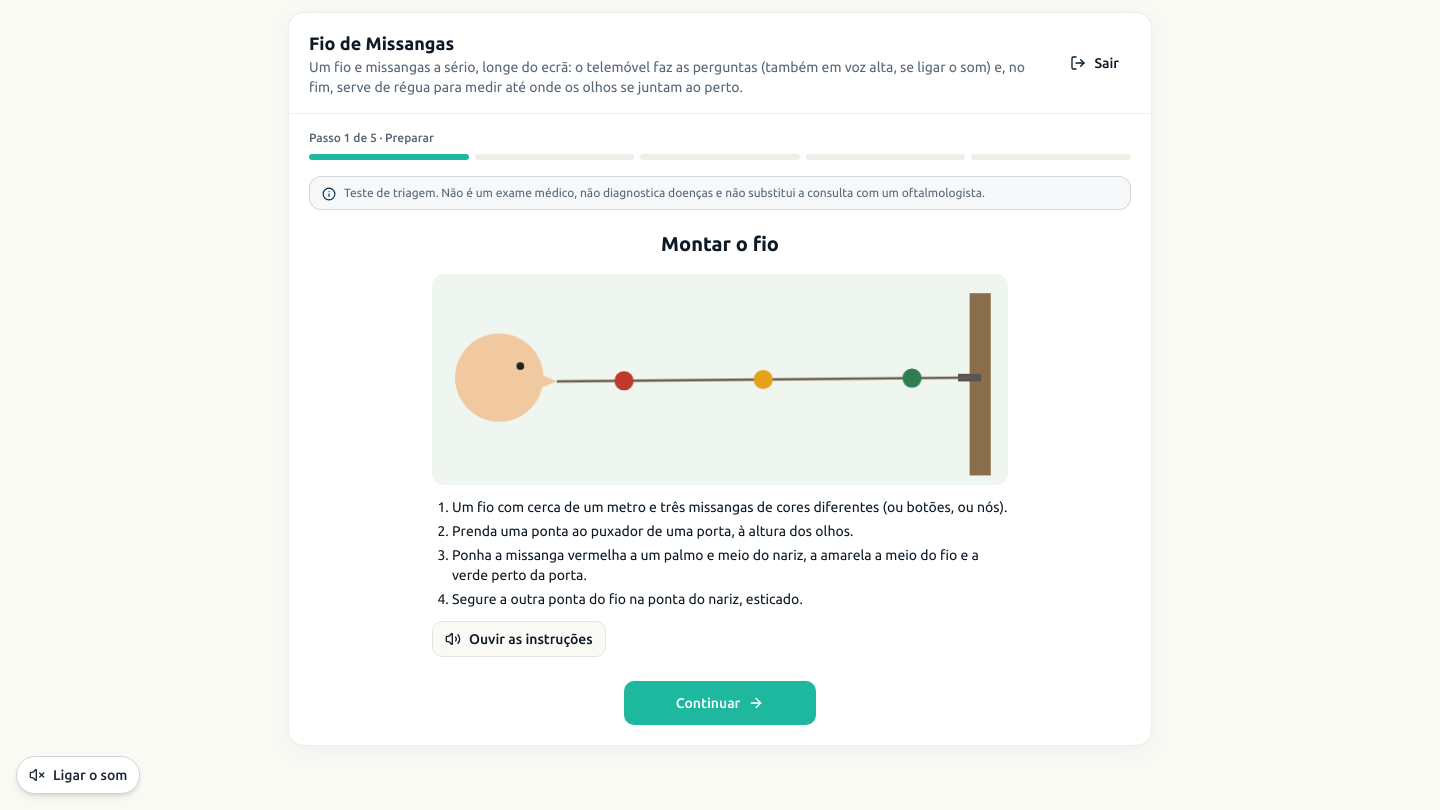
Test case: Fio de Missangas › três missangas, duas medições na régua: grava o ponto mais próximo em cm e a supressão
The width and height of the screenshot is (1440, 810).
(page scrolled)
Click the button "Continuar".
click(720, 703)  # box [624, 681, 816, 725]
(page scrolled)
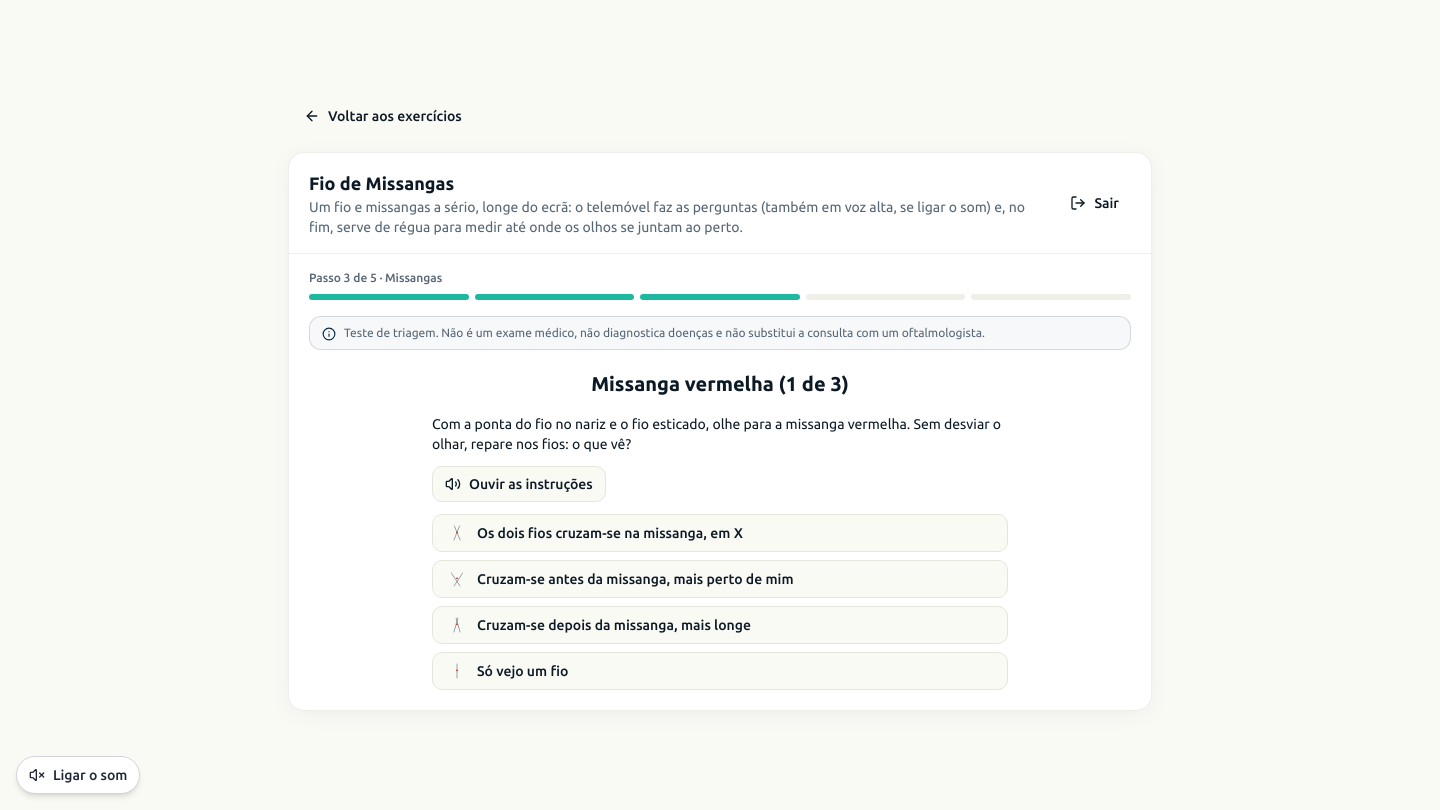
Click the button "Os dois fios cruzam-se na missanga, em X".
click(720, 533)  # box [432, 514, 1008, 552]
Wait 11000 ms
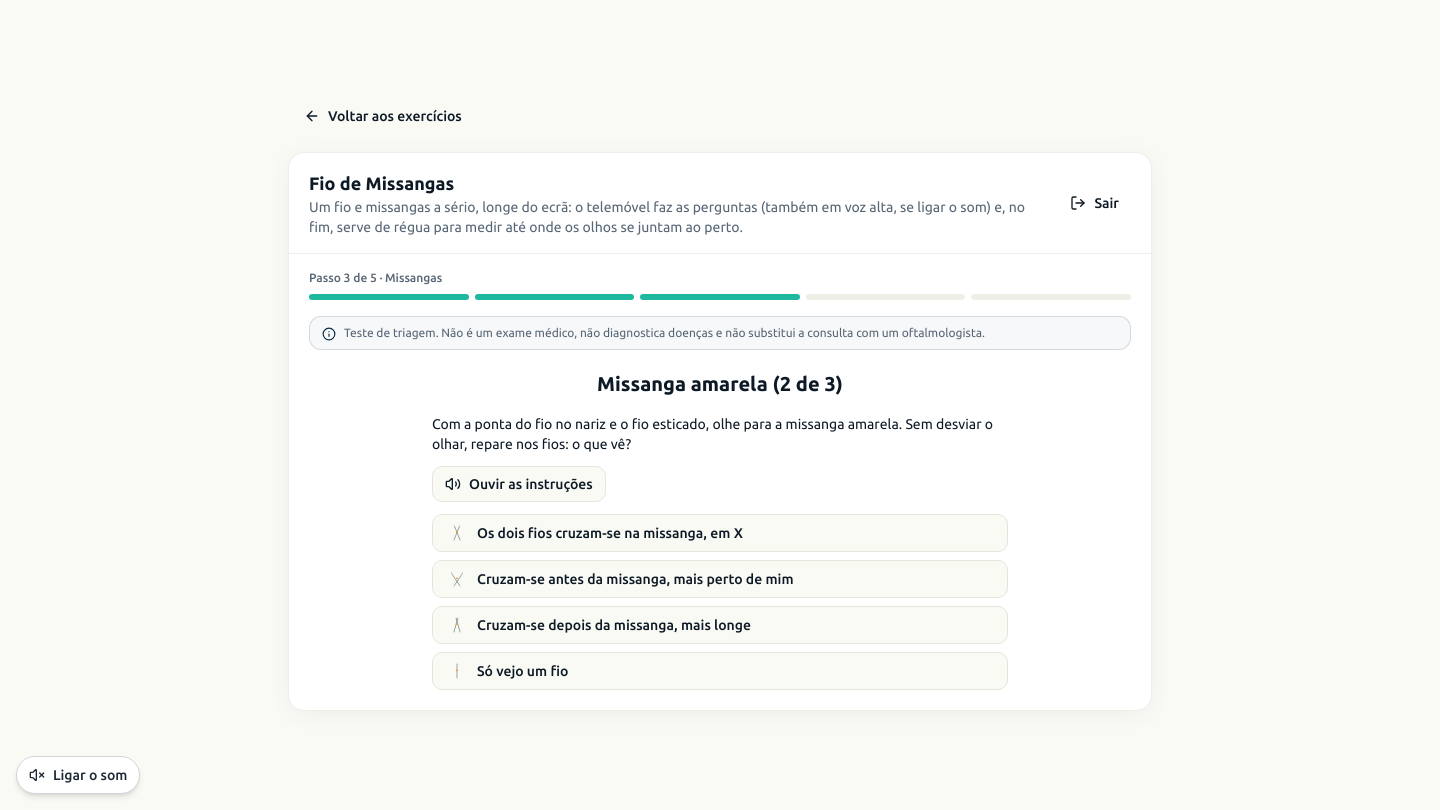
Click the button "Só vejo um fio".
click(523, 671)  # box [432, 652, 1008, 690]
Wait 11000 ms
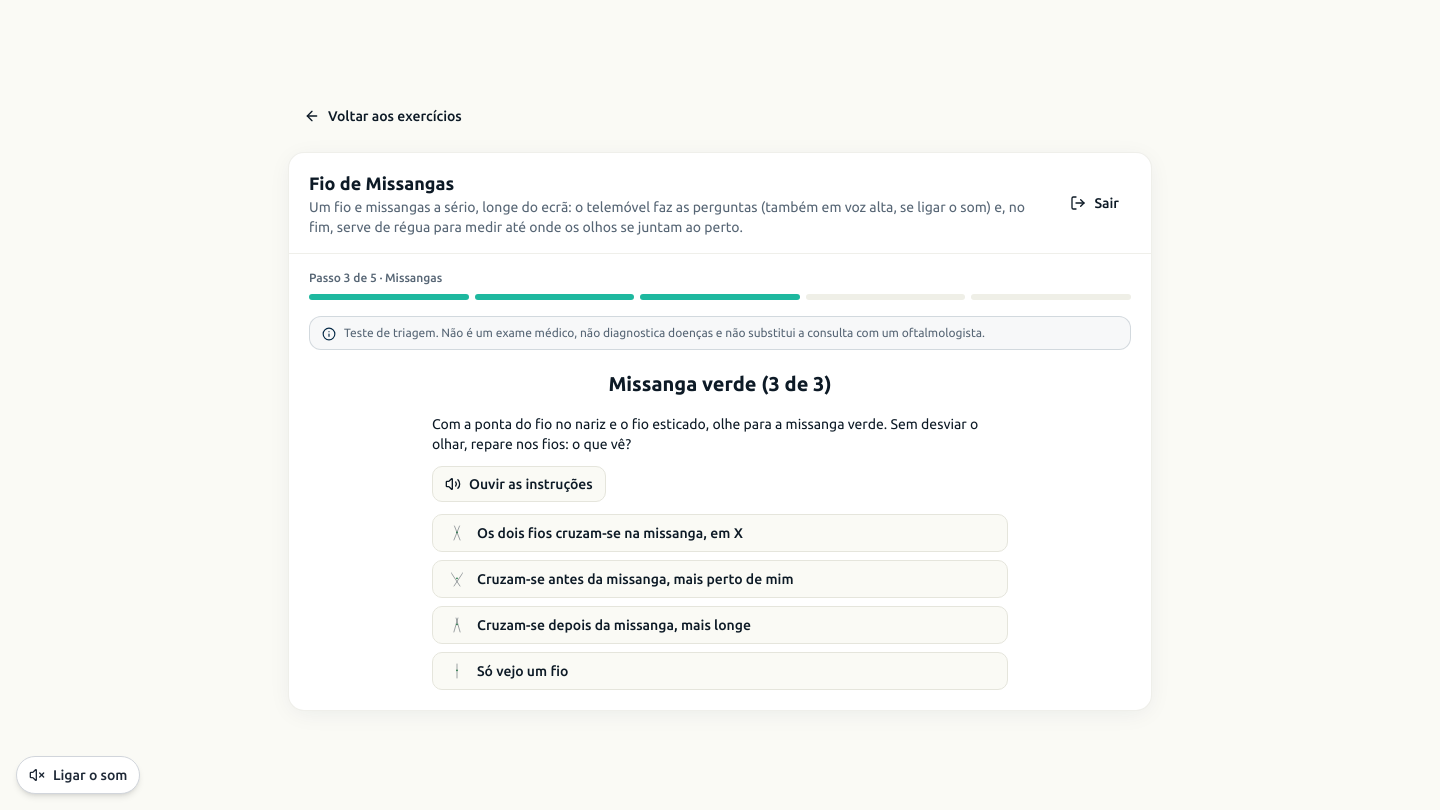
Click the button "Cruzam-se depois da missanga, mais longe".
click(720, 625)  # box [432, 606, 1008, 644]
Wait 11000 ms
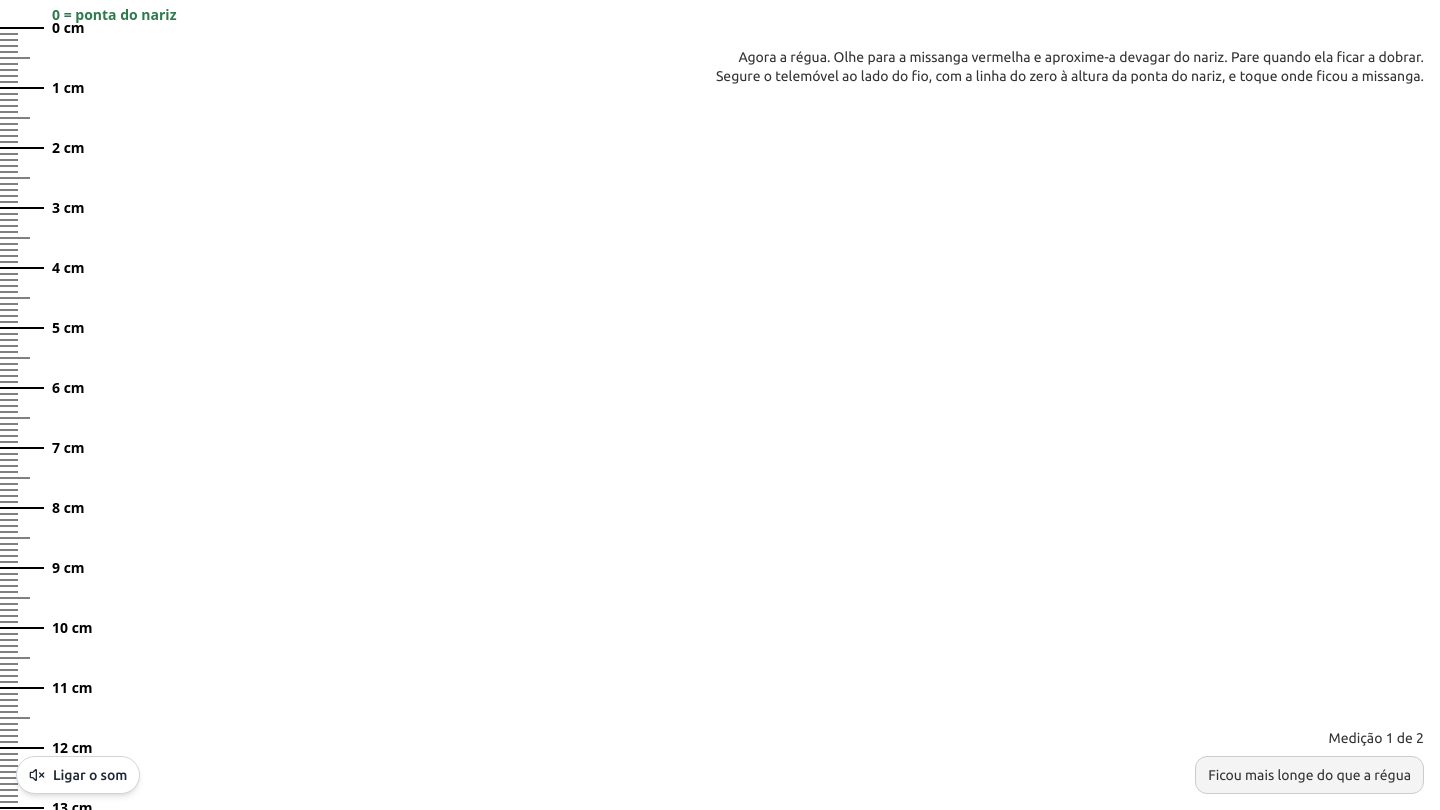
Press the mouse on the picture named "Régua em centímetros. Toque onde ficou a missanga." at (720, 405), box [0, 0, 1439, 809]
Wait 1000 ms
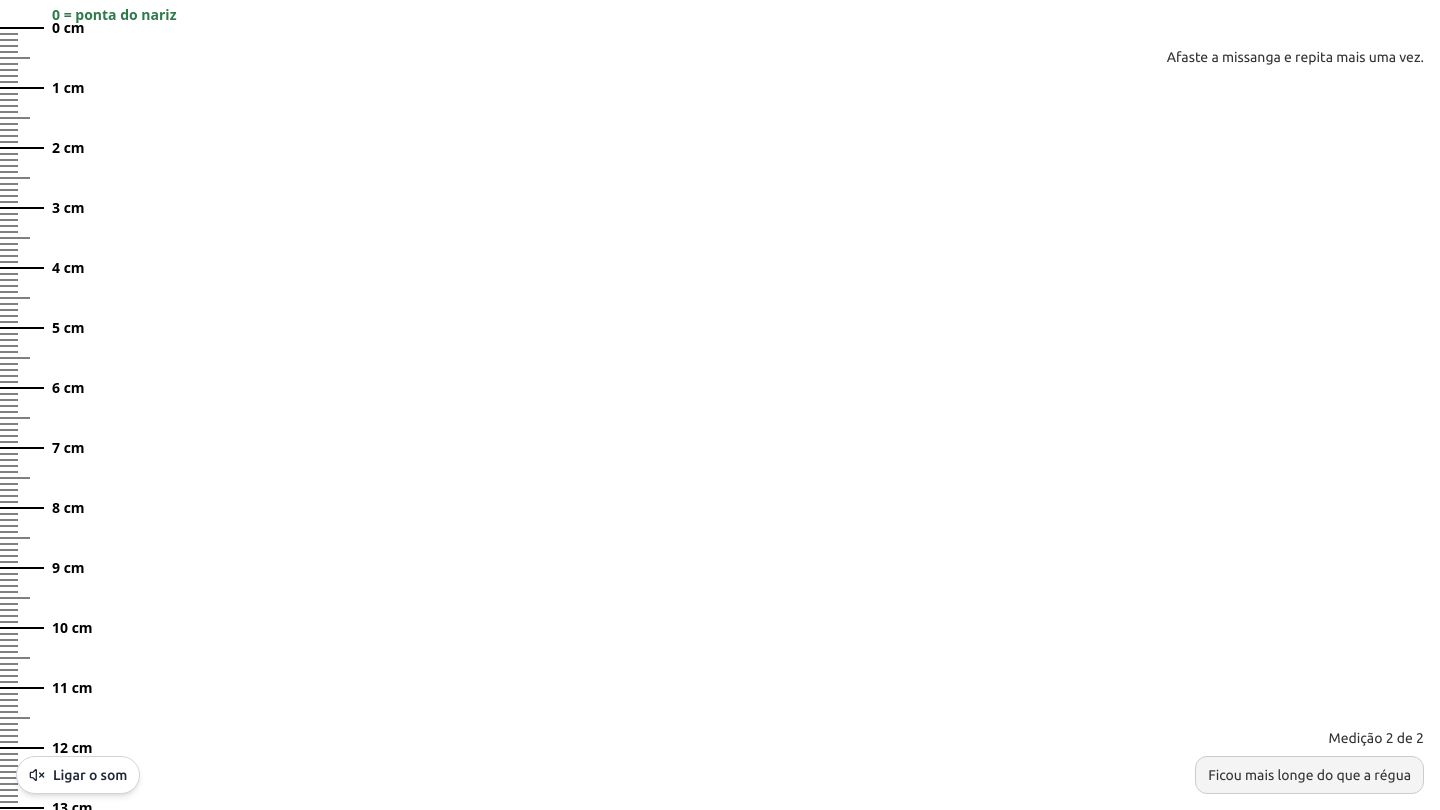
Press the mouse on the picture named "Régua em centímetros. Toque onde ficou a missanga." at (720, 405), box [0, 0, 1439, 809]
Wait 1000 ms
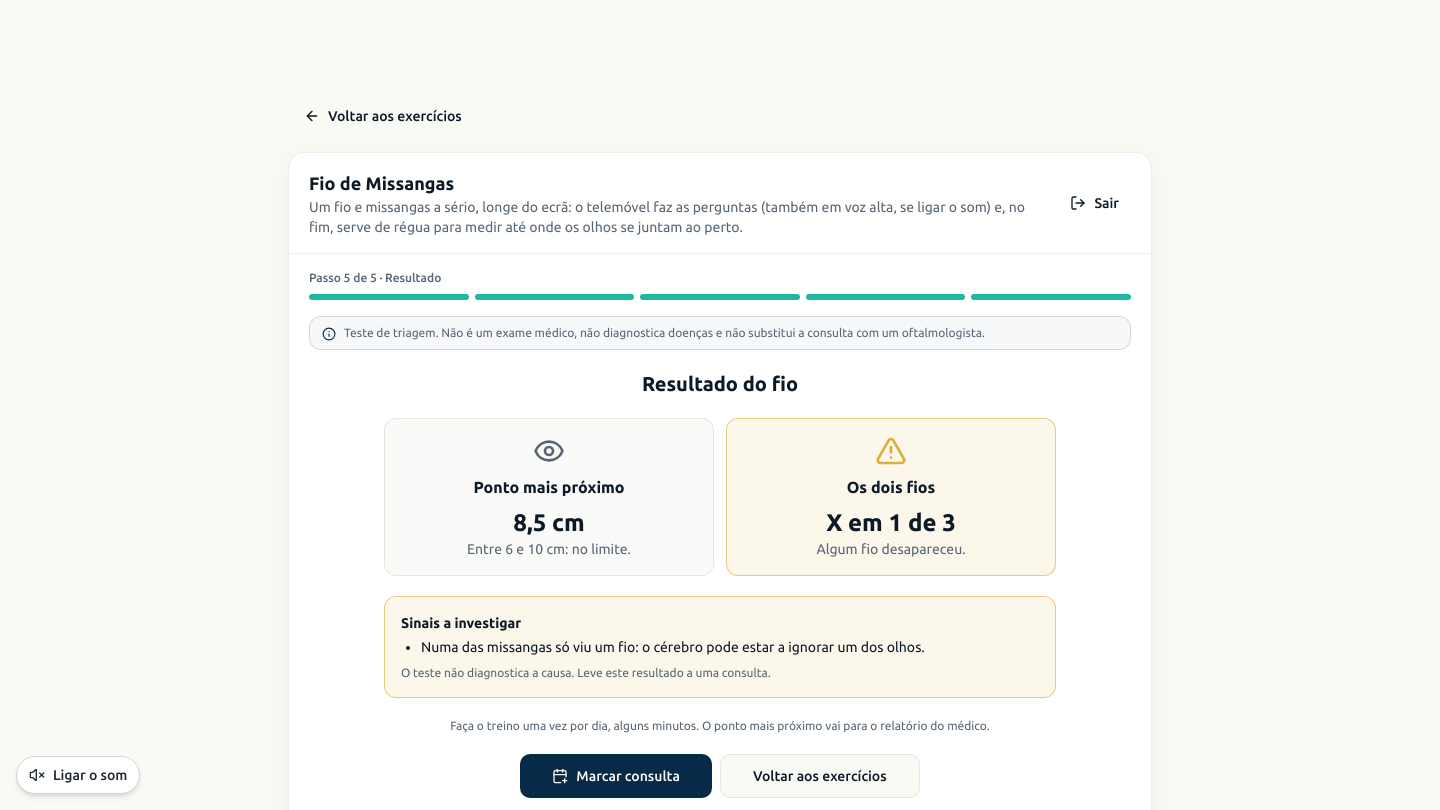
expect the heading "Resultado do fio" is shown: met, box [642, 372, 798, 395]
expect the list item "Numa das missangas só viu um fio: o cérebro pode estar a ignorar um dos olhos." is shown: met, box [421, 639, 925, 655]
